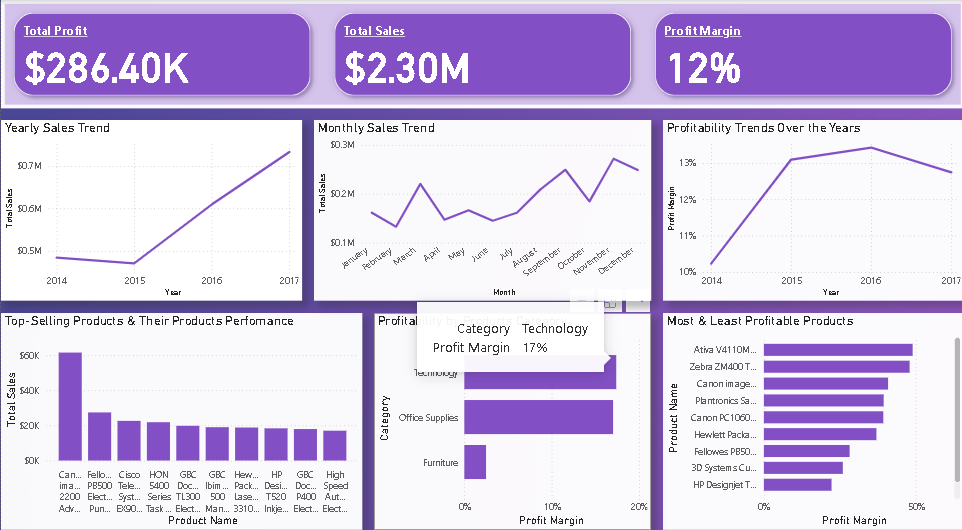

This screenshot's page, from the dashboard's own definition file:
{"tool":"powerbi","page":{"name":"Page 1","canvas":[1280,720],"ordinal":0},"visuals":[{"type":"lineChart","title":"Yearly Sales Trend","fields":{"Category":["Sample - Superstore.Order Date.Variation.Date Hierarchy.Year"],"Y":["Sample - Superstore.Total Sales"]},"box":[0,160,400,240],"z":0},{"type":"lineChart","title":"Profitability Trends Over the Years","fields":{"Category":["Sample - Superstore.Order Date.Variation.Date Hierarchy.Year"],"Y":["Sample - Superstore.Profit Margin"]},"box":[880,160,400,240],"z":1000},{"type":"clusteredColumnChart","title":"Top-Selling Products & Their Products Perfomance","fields":{"Category":["Sample - Superstore.Product Name"],"Y":["Sample - Superstore.Total Sales"]},"box":[0,416,480,288],"z":2000},{"type":"clusteredBarChart","title":"Most & Least Profitable Products","fields":{"Category":["Sample - Superstore.Product Name"],"Y":["Sample - Superstore.Profit Margin"]},"box":[880,416,400,288],"z":3000},{"type":"clusteredBarChart","title":"Profitability by Products Category","fields":{"Category":["Sample - Superstore.Category"],"Y":["Sample - Superstore.Profit Margin"]},"box":[496,416,368,288],"z":4000},{"type":"lineChart","title":"Monthly Sales Trend","fields":{"Category":["Sample - Superstore.Order Date.Variation.Date Hierarchy.Month"],"Y":["Sample - Superstore.Total Sales"]},"box":[416,160,448,240],"z":5000},{"type":"cardVisual","fields":{"Data":["Sample - Superstore.Total Profit","Sample - Superstore.Total Sales","Sample - Superstore.Profit Margin"]},"box":[0,0,1280,144],"z":6000}]}

Visuals, with their boxes in screenshot pixels (x1, y1, x2, y2), scaled from the page's 1280x720 canvas onto the 962x530 screenshot:
"Yearly Sales Trend" lineChart: 0, 118, 301, 294
"Profitability Trends Over the Years" lineChart: 661, 118, 961, 294
"Top-Selling Products & Their Products Perfomance" clusteredColumnChart: 0, 306, 361, 518
"Most & Least Profitable Products" clusteredBarChart: 661, 306, 961, 518
"Profitability by Products Category" clusteredBarChart: 373, 306, 649, 518
"Monthly Sales Trend" lineChart: 313, 118, 649, 294
cardVisual - Sample - Superstore.Total Profit x Sample - Superstore.Total Sales: 0, 0, 961, 106
